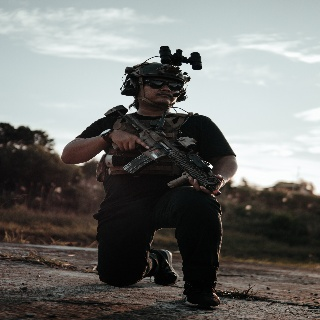rifle: (104, 104, 223, 197)
